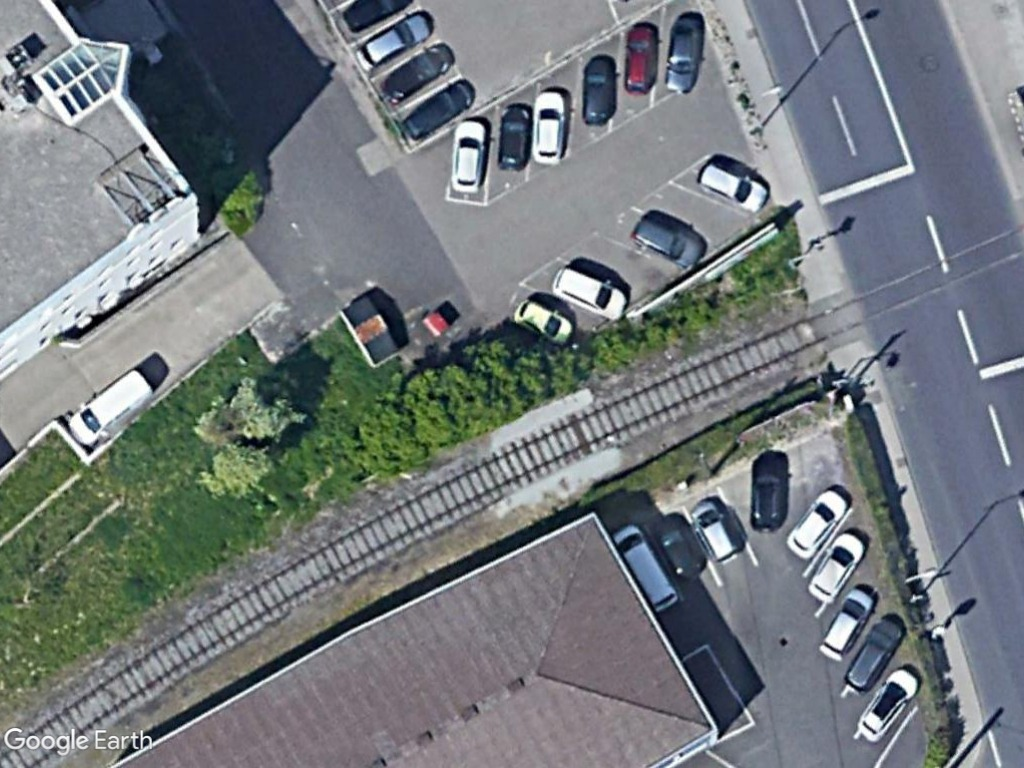car: (852, 666, 926, 744), (396, 76, 475, 147), (377, 39, 459, 107), (352, 8, 434, 73), (839, 616, 905, 696), (814, 586, 880, 663), (784, 488, 849, 560), (547, 267, 627, 325), (627, 216, 706, 272), (806, 534, 870, 603), (696, 160, 771, 215), (659, 14, 704, 96), (692, 497, 740, 568), (746, 455, 788, 534), (529, 86, 570, 166), (509, 299, 576, 347), (579, 56, 622, 129), (449, 118, 490, 192), (620, 21, 658, 96), (495, 101, 531, 174)
van: (66, 366, 155, 449)
